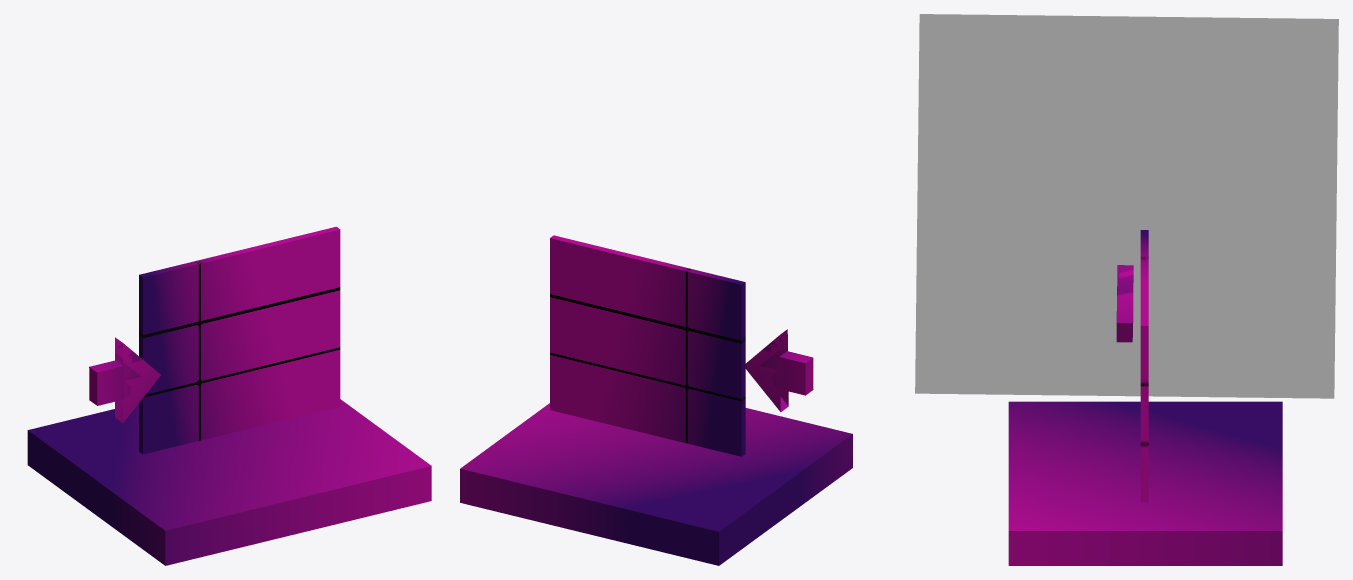
Rendered from 9_IMPUT_TABLE.glb.
The picture shows the model from 3 angles, left to right: view 1: azimuth 30°, elevation 25°; view 2: azimuth 150°, elevation 25°; view 3: azimuth 270°, elevation 25°; orthographic projection. The views are drawn at different scales.
Visible parts, largest first — view 1: Cubo.001, Cubo.007, Cubo.005, Cubo.004; view 2: Cubo.001, Cubo.007, Cubo.005, Cubo.004; view 3: Plano, Cubo.001, Cubo.007, Cubo.005.
Part boxes in pixels (x1,y1,x2,y2): Cubo.001: [27, 399, 431, 565]; Cubo.007: [139, 226, 340, 454]; Cubo.005: [115, 337, 160, 422]; Cubo.004: [89, 360, 124, 405]; Cubo.001: [460, 403, 852, 565]; Cubo.007: [550, 235, 745, 456]; Cubo.005: [745, 329, 788, 411]; Cubo.004: [780, 351, 813, 395]; Plano: [915, 14, 1338, 398]; Cubo.001: [1008, 401, 1282, 565]; Cubo.007: [1140, 230, 1148, 501]; Cubo.005: [1116, 265, 1133, 342].
Bounding box in the file's own units: 1.88 × 2.77 × 2.48.
Materials: 4 (4 with a texture image).
